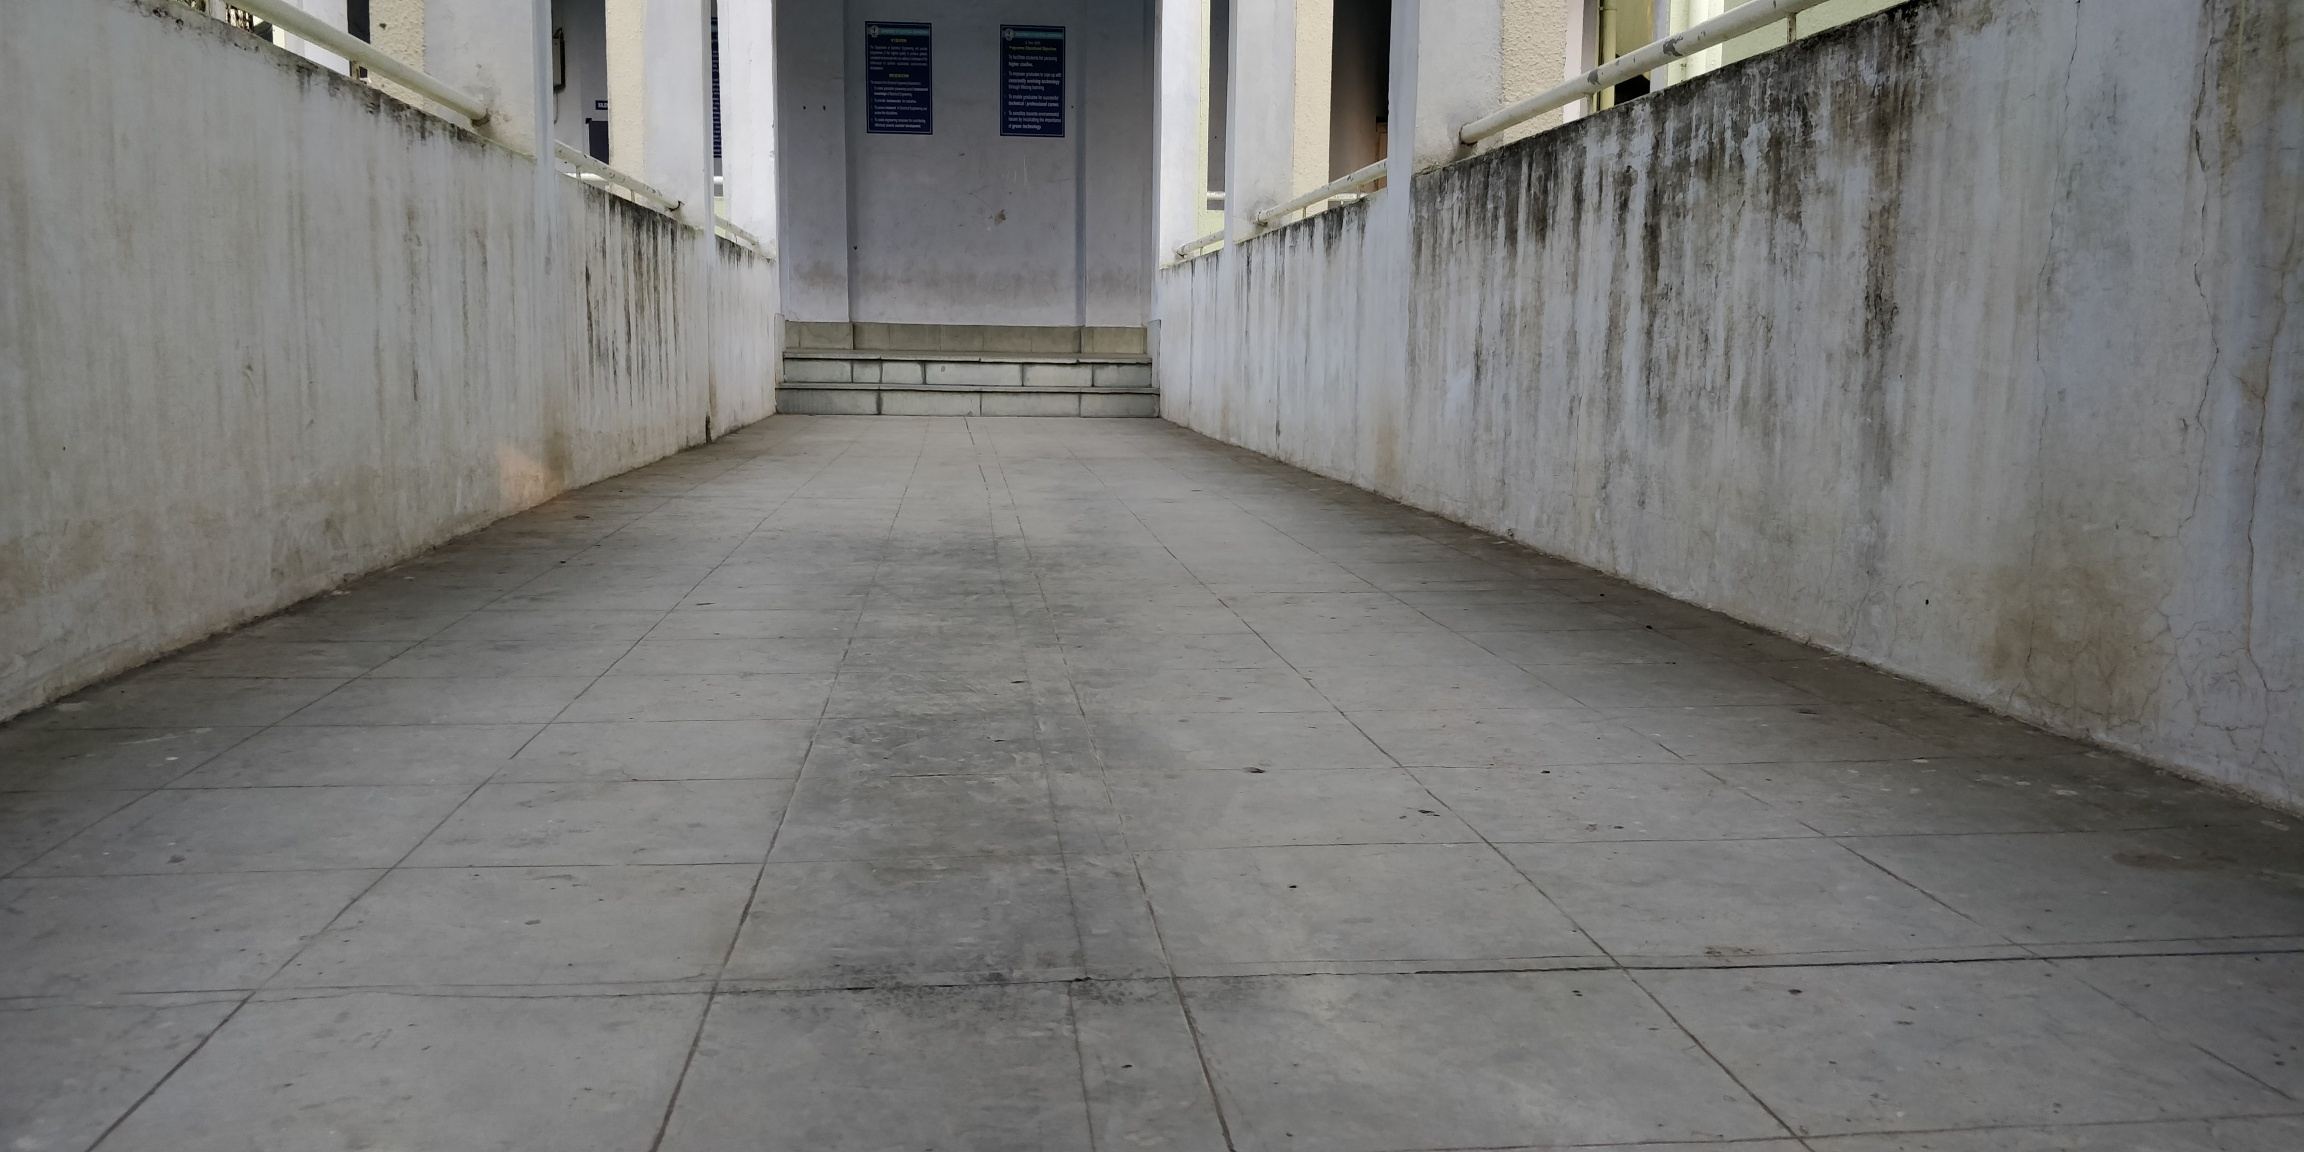stairs_up: (767, 334, 1178, 429)
